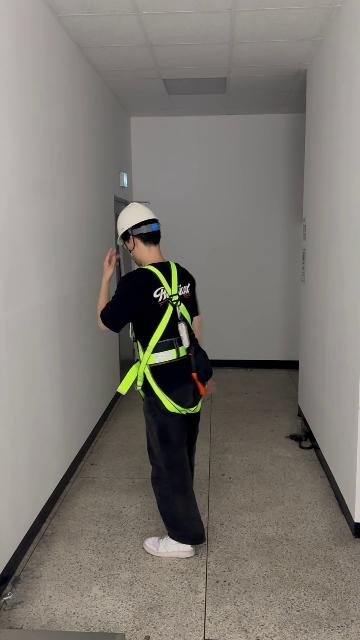helmet_worn: (114, 201, 161, 247)
shoe_not_worn: (143, 533, 195, 557)
vest_worn: (120, 268, 202, 410)
